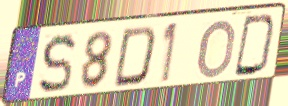1: (160, 20, 180, 86)
8: (79, 30, 114, 91)
D: (111, 24, 159, 90), (232, 13, 279, 78)
O: (195, 18, 237, 81)
S: (37, 32, 78, 96)
